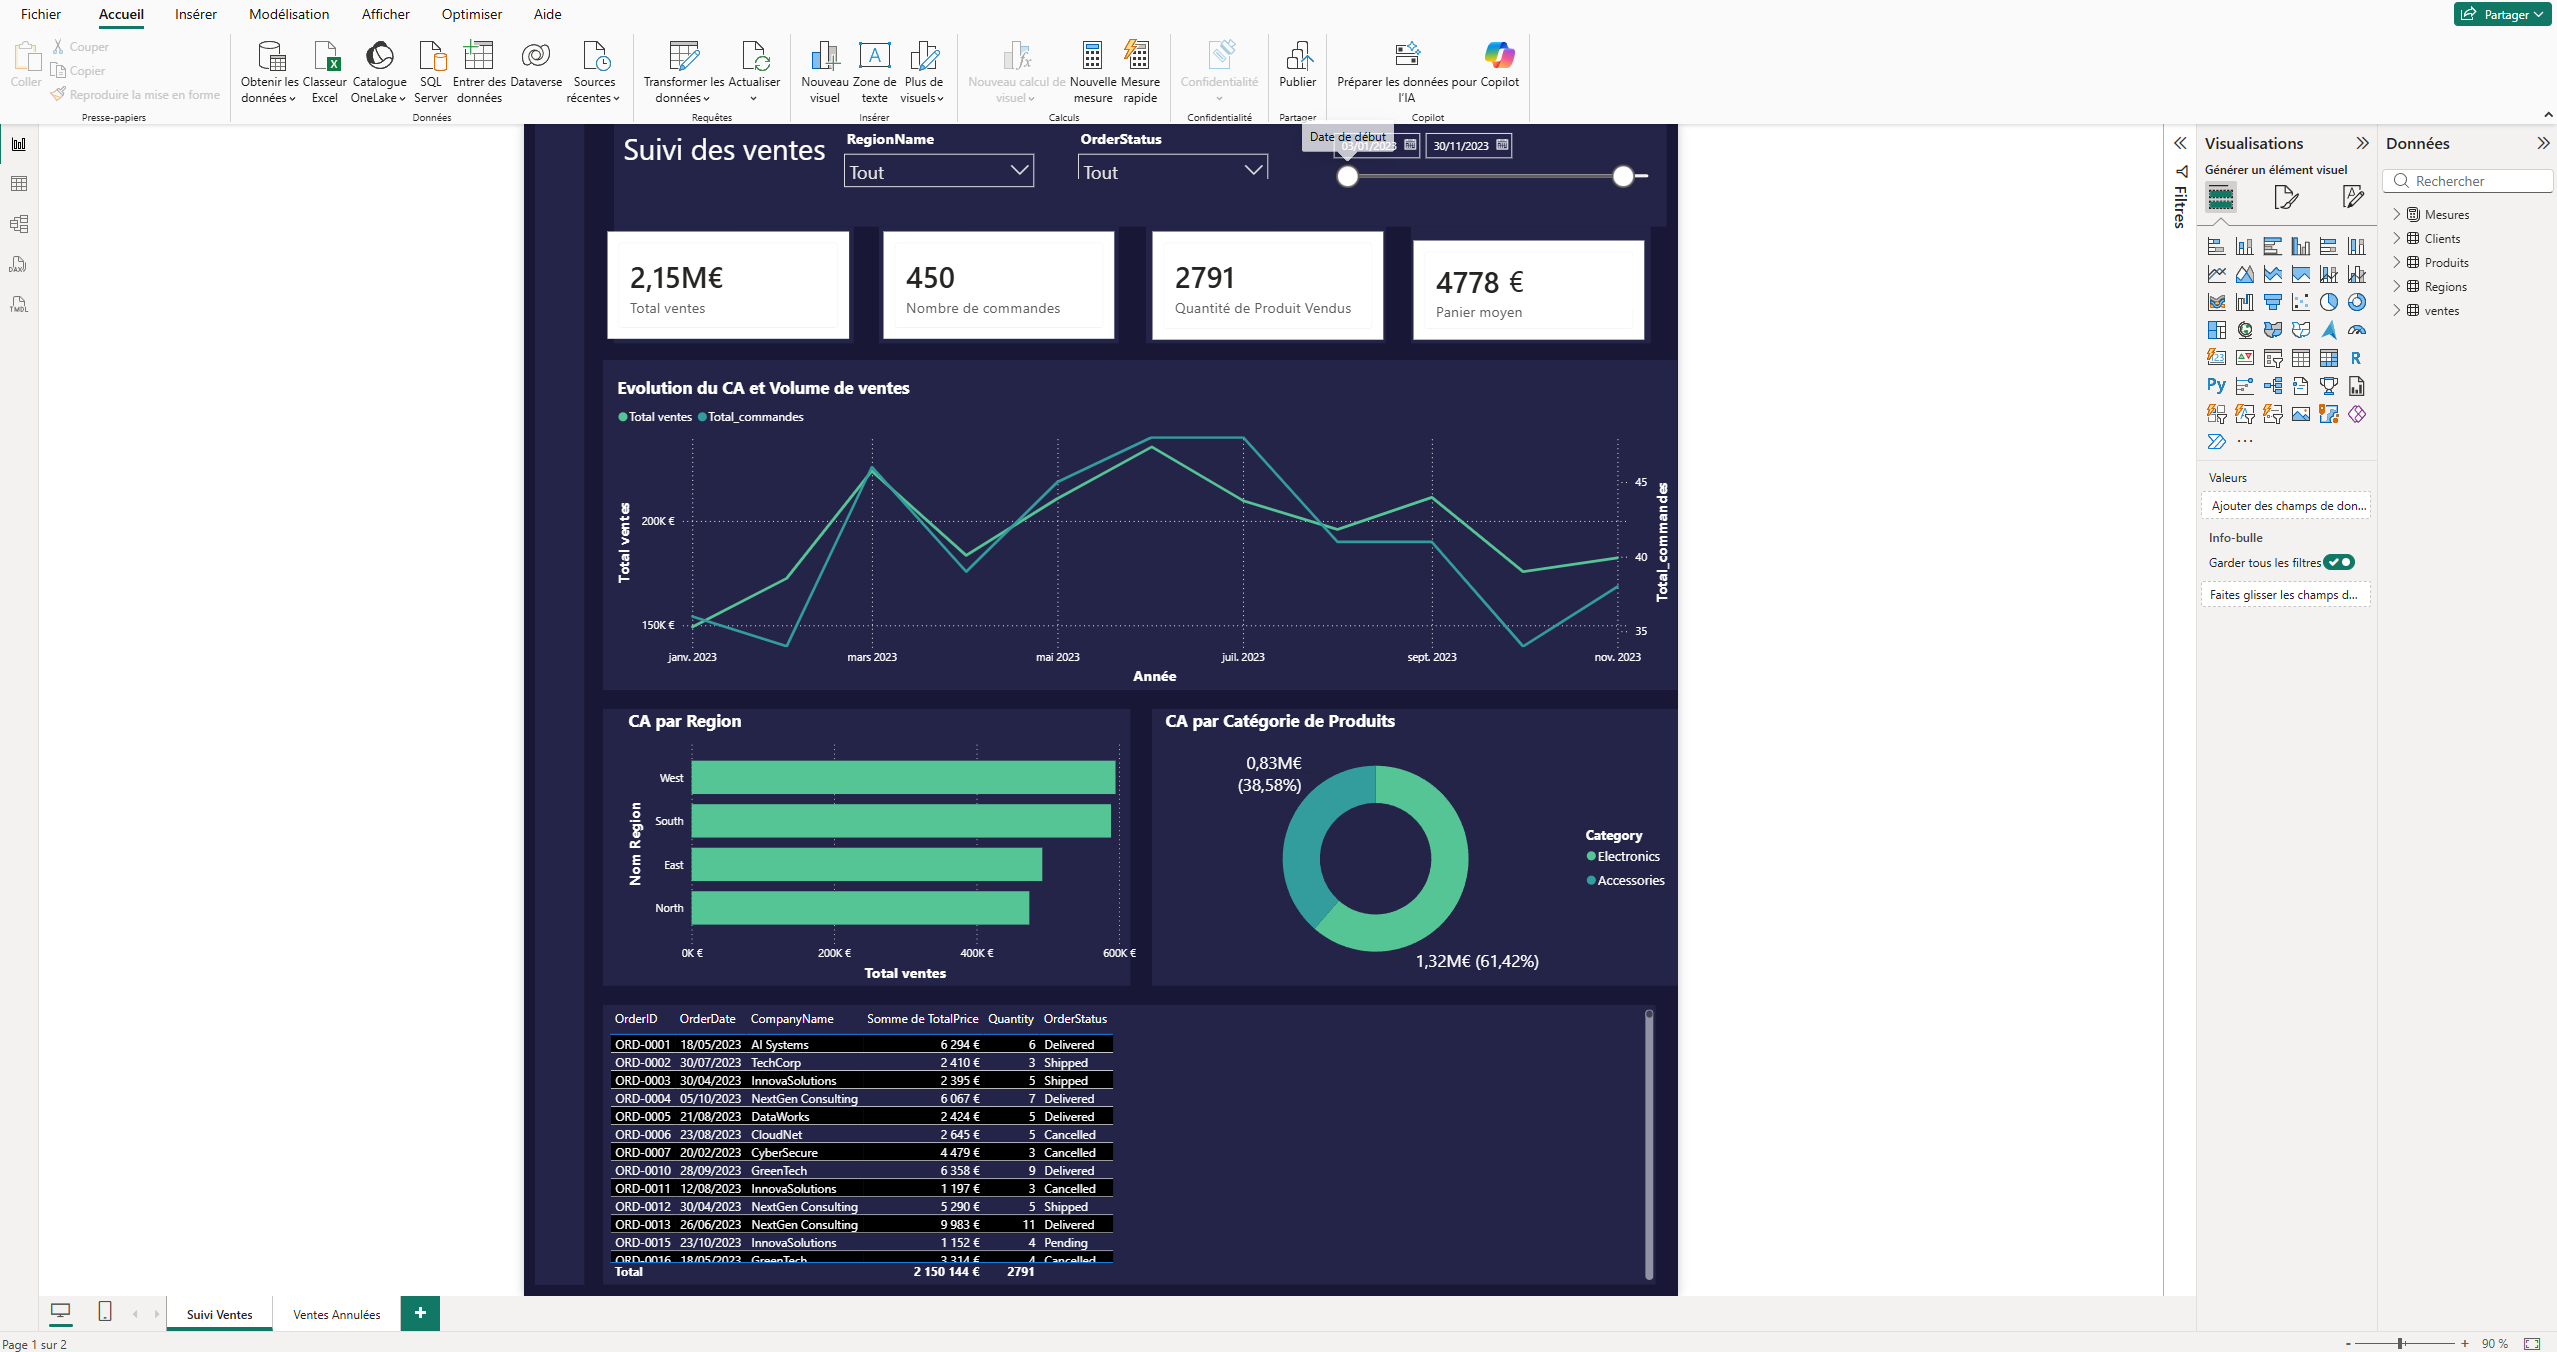

The dashboard page shown, as its layout file describes it:
{"tool":"powerbi","page":{"name":"Suivi Ventes","canvas":[1280,1300],"ordinal":0},"visuals":[{"type":"shape","box":[12.2,0,54.7,1287.6],"z":0},{"type":"shape","box":[100.3,0,1167.5,114],"z":1000},{"type":"shape","box":[100.3,114,266,129.2],"z":2000},{"type":"shape","box":[88.2,261.5,1191.8,366.4],"z":3000},{"type":"shape","box":[88.2,649.1,585.3,307.1],"z":4000},{"type":"shape","box":[696.2,649.1,583.8,307.1],"z":5000},{"type":"shape","box":[88.2,977.5,1167.5,310.1],"z":6000},{"type":"textbox","box":[104.9,0,258.4,89.7],"z":7000},{"type":"shape","box":[393.7,114,266,129.2],"z":8000},{"type":"shape","box":[690.2,114,266,129.2],"z":9000},{"type":"shape","box":[983.6,114,266,129.2],"z":10000},{"type":"cardVisual","fields":{"Data":["ventes.Total ventes"]},"box":[88.2,114,278.2,129.2],"z":11000},{"type":"cardVisual","fields":{"Data":["ventes.Total_commandes"]},"box":[393.7,114,266,129.2],"z":12000},{"type":"cardVisual","fields":{"Data":["Produits.Quantité de Produit Vendus"]},"box":[691.7,114,266,130.7],"z":13000},{"type":"cardVisual","fields":{"Data":["ventes.Panier moyen"]},"box":[982,124.7,266,120.1],"z":14000},{"type":"textbox","box":[1086.9,145.9,145.9,57.8],"z":15000},{"type":"lineChart","title":"Evolution du CA et Volume de ventes","fields":{"Category":["ventes.OrderDate.Variation.Hiérarchie de dates.Année","ventes.OrderDate.Variation.Hiérarchie de dates.Trimestre","ventes.OrderDate.Variation.Hiérarchie de dates.Mois"],"Y":["Mesures.Total ventes"],"Y2":["Mesures.Total_commandes"]},"box":[98.8,279.7,1181.2,348.1],"z":16000},{"type":"barChart","title":"CA par Region","fields":{"Category":["Regions.RegionName"],"Y":["Mesures.Total ventes"]},"box":[111,649.1,573.1,307.1],"z":17000},{"type":"donutChart","title":"CA par Catégorie de Produits","fields":{"Category":["Produits.Category"],"Y":["Mesures.Total ventes"]},"box":[706.9,649.1,573.1,307.1],"z":18000},{"type":"tableEx","fields":{"Values":["ventes.OrderID","ventes.OrderDate","Clients.CompanyName","Sum(ventes.TotalPrice)","Sum(ventes.Quantity)","ventes.OrderStatus"]},"box":[89.7,977.5,1167.5,310.1],"z":19000},{"type":"slicer","fields":{"Values":["Regions.RegionName"]},"box":[345.1,0,231.1,114],"z":20000},{"type":"slicer","fields":{"Values":["ventes.OrderStatus"]},"box":[605,0,231.1,60.8],"z":21000},{"type":"slicer","fields":{"Values":["ventes.OrderDate"]},"box":[884.8,0,383.1,114],"z":22000}]}

Visuals, with their boxes on the page's 1280x1300 design canvas (x1, y1, x2, y2). These are canvas units, not pixel positions in the 2557x1352 screenshot, which may show the page scaled, cropped or inside an application window:
shape: detection(12, 0, 67, 1288)
shape: detection(100, 0, 1268, 114)
shape: detection(100, 114, 366, 243)
shape: detection(88, 262, 1280, 628)
shape: detection(88, 649, 674, 956)
shape: detection(696, 649, 1280, 956)
shape: detection(88, 978, 1256, 1288)
textbox: detection(105, 0, 363, 90)
shape: detection(394, 114, 660, 243)
shape: detection(690, 114, 956, 243)
shape: detection(984, 114, 1250, 243)
cardVisual - ventes.Total ventes: detection(88, 114, 366, 243)
cardVisual - ventes.Total_commandes: detection(394, 114, 660, 243)
cardVisual - Produits.Quantité de Produit Vendus: detection(692, 114, 958, 245)
cardVisual - ventes.Panier moyen: detection(982, 125, 1248, 245)
textbox: detection(1087, 146, 1233, 204)
"Evolution du CA et Volume de ventes" lineChart: detection(99, 280, 1280, 628)
"CA par Region" barChart: detection(111, 649, 684, 956)
"CA par Catégorie de Produits" donutChart: detection(707, 649, 1280, 956)
tableEx - ventes.OrderID x ventes.OrderDate: detection(90, 978, 1257, 1288)
slicer - Regions.RegionName: detection(345, 0, 576, 114)
slicer - ventes.OrderStatus: detection(605, 0, 836, 61)
slicer - ventes.OrderDate: detection(885, 0, 1268, 114)
